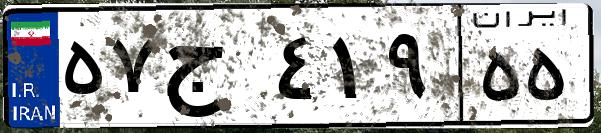1: (330, 28, 385, 110)
4: (270, 28, 330, 110)
5: (57, 26, 110, 100), (475, 38, 525, 113), (525, 38, 570, 115)
7: (110, 28, 158, 98)
9: (385, 28, 445, 110)
ج: (158, 20, 270, 120)
